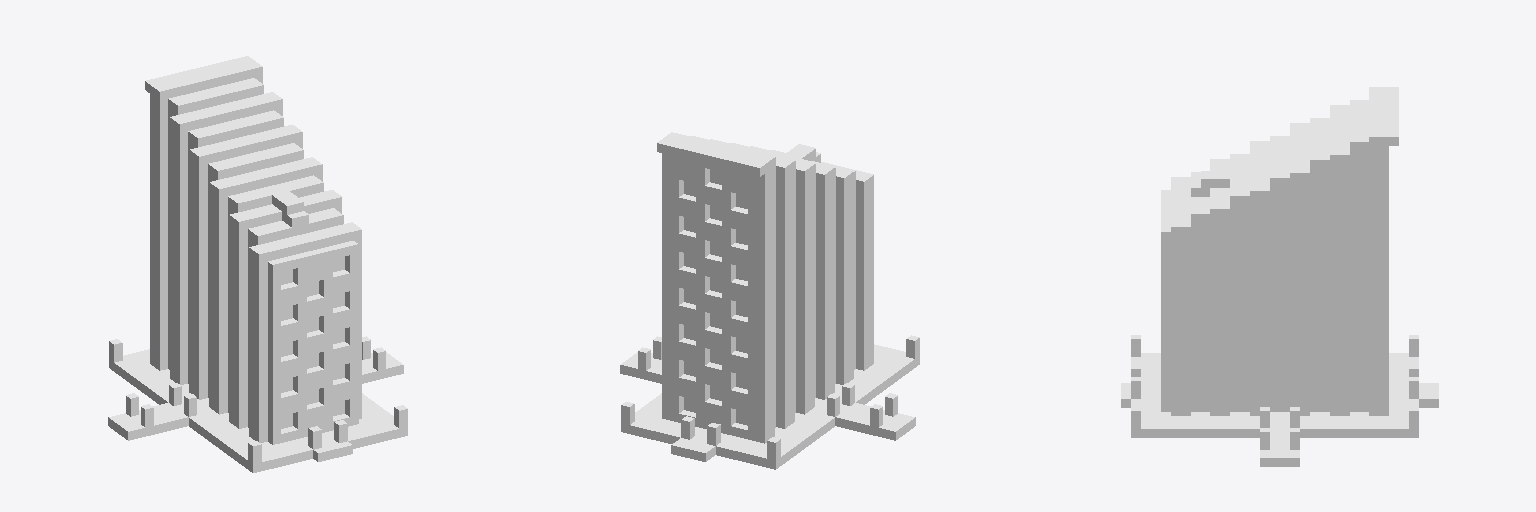
Rendered from office1.obj.
3 renders of one model, left to right at view 1: azimuth 30°, elevation 25°; view 2: azimuth 150°, elevation 25°; view 3: azimuth 270°, elevation 25°, orthographic.
Parts seen in each view (by area): view 1: object 1; view 2: object 1; view 3: object 1.
Boxes of the visible parts, x1=… form: object 1: x1=108, y1=56, x2=407, y2=472; object 1: x1=620, y1=132, x2=919, y2=469; object 1: x1=1121, y1=87, x2=1438, y2=466.
Bounding box in the file's own units: 3.2 × 3.2 × 3.2.